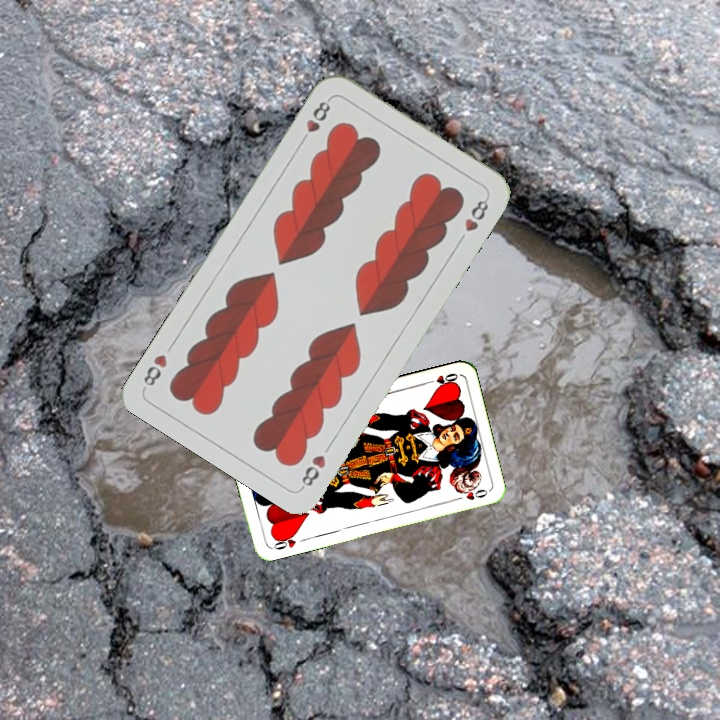H8: (296, 94, 334, 147), (297, 450, 329, 491)
HO: (421, 369, 460, 389), (268, 530, 299, 552)
